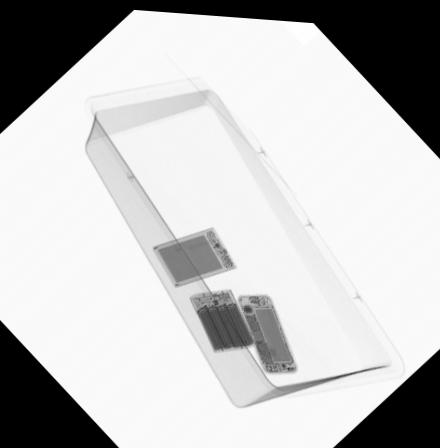Powerbank: (148, 222, 238, 287), (186, 286, 256, 350)
